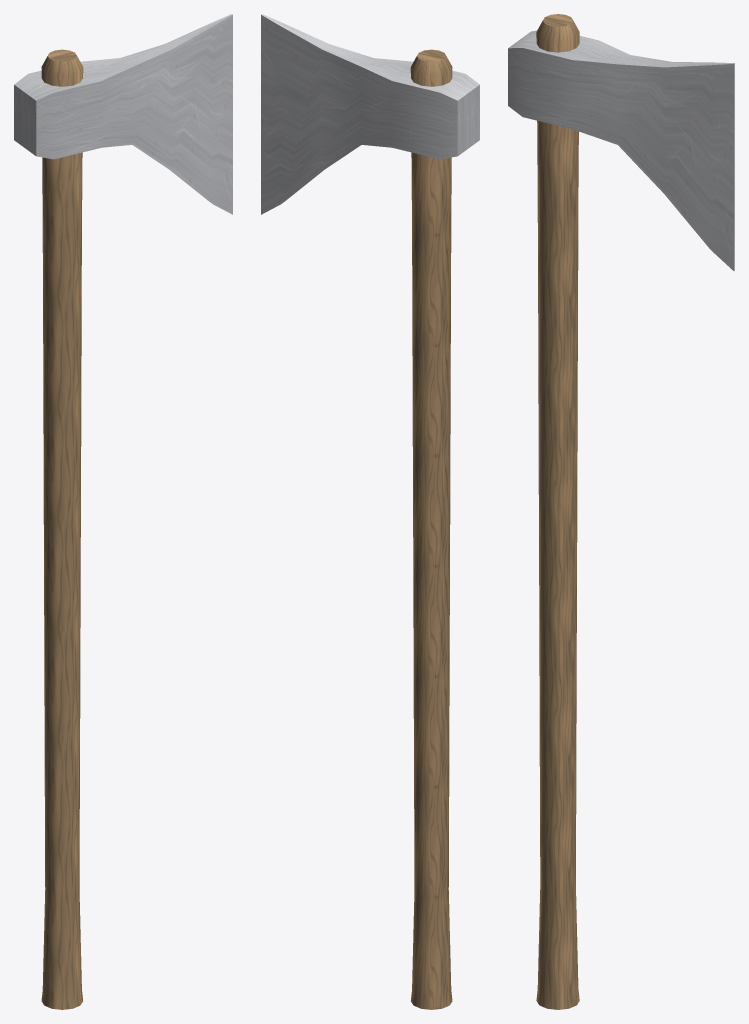
Rendered from axe.glb.
3 views of the same model, side by side, from view 1: azimuth 30°, elevation 25°; view 2: azimuth 150°, elevation 25°; view 3: azimuth 330°, elevation 25° (orthographic). The views are drawn at different scales.
Parts seen in each view (by area): view 1: OUT; view 2: OUT; view 3: OUT.
Part boxes in pixels (x1,y1,x2,y2): OUT: (14,14,232,1009); OUT: (261,14,479,1009); OUT: (508,14,734,1009).
Bounding box in the file's own units: 0.195 × 0.85 × 0.042.
2 materials, 2 textured.
